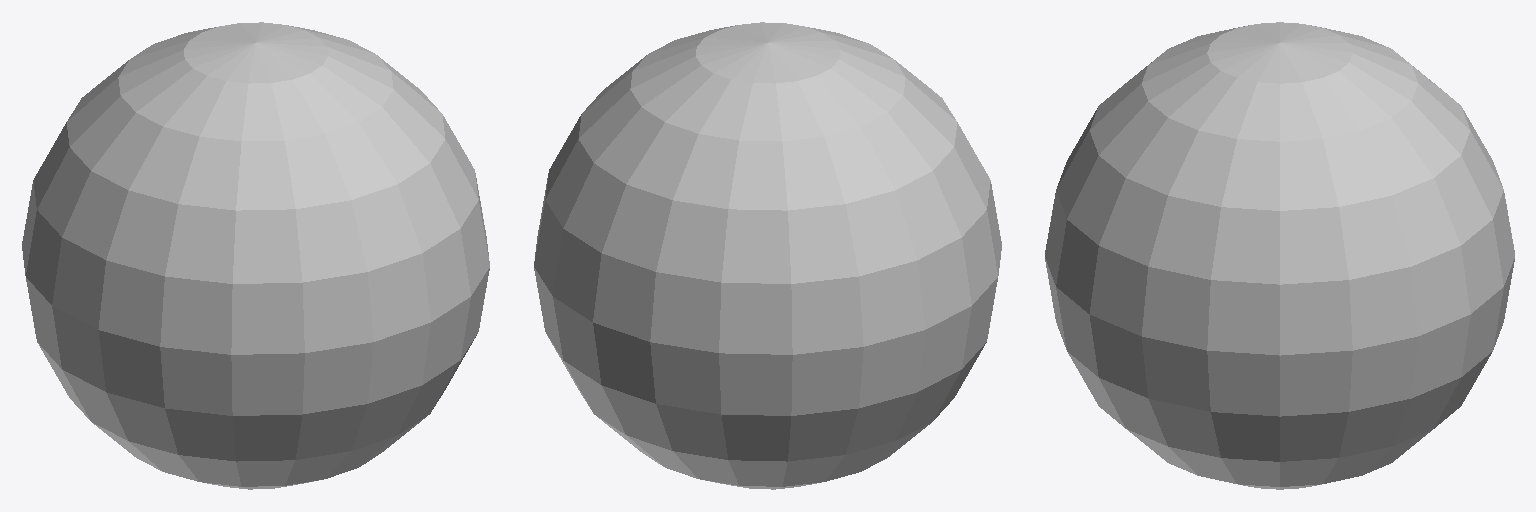
Rendered from Boss Bullet.obj.
3 renders of one model, left to right at view 1: azimuth 30°, elevation 25°; view 2: azimuth 150°, elevation 25°; view 3: azimuth 270°, elevation 25°, orthographic.
Parts seen in each view (by area): view 1: Sphere001; view 2: Sphere001; view 3: Sphere001.
Boxes of the visible parts, x1,y1,x2,y2 form: Sphere001: [22, 22, 489, 489]; Sphere001: [534, 22, 1001, 489]; Sphere001: [1045, 22, 1514, 489].
Bounding box in the file's own units: 20.99 × 20.99 × 20.99.